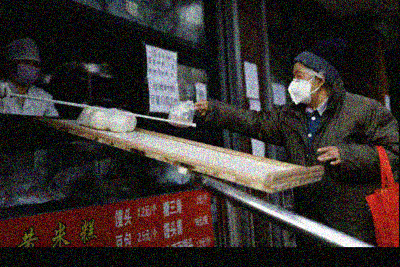with_mask: (286, 68, 315, 107), (13, 59, 40, 85)
